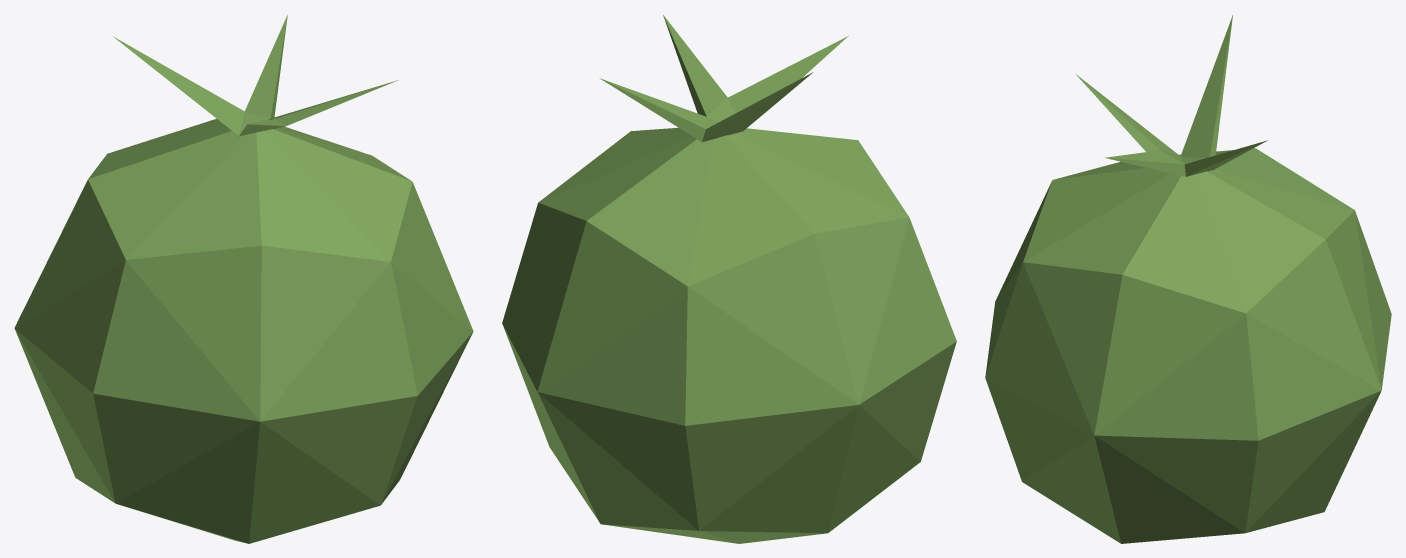
The model's file is tomato fruit_green.fbx.
The picture shows the model from 3 angles, left to right: view 1: azimuth 30°, elevation 25°; view 2: azimuth 150°, elevation 25°; view 3: azimuth 270°, elevation 25°; orthographic projection. The views are drawn at different scales.
Parts seen in each view (by area): view 1: tomato_fruit2; view 2: tomato_fruit2; view 3: tomato_fruit2.
Part boxes in pixels (x1,y1,x2,y2): tomato_fruit2: (14, 15, 473, 543); tomato_fruit2: (502, 15, 956, 543); tomato_fruit2: (985, 15, 1391, 543).
Size of the model in its own units: 14.48 by 18.77 by 14.49.
